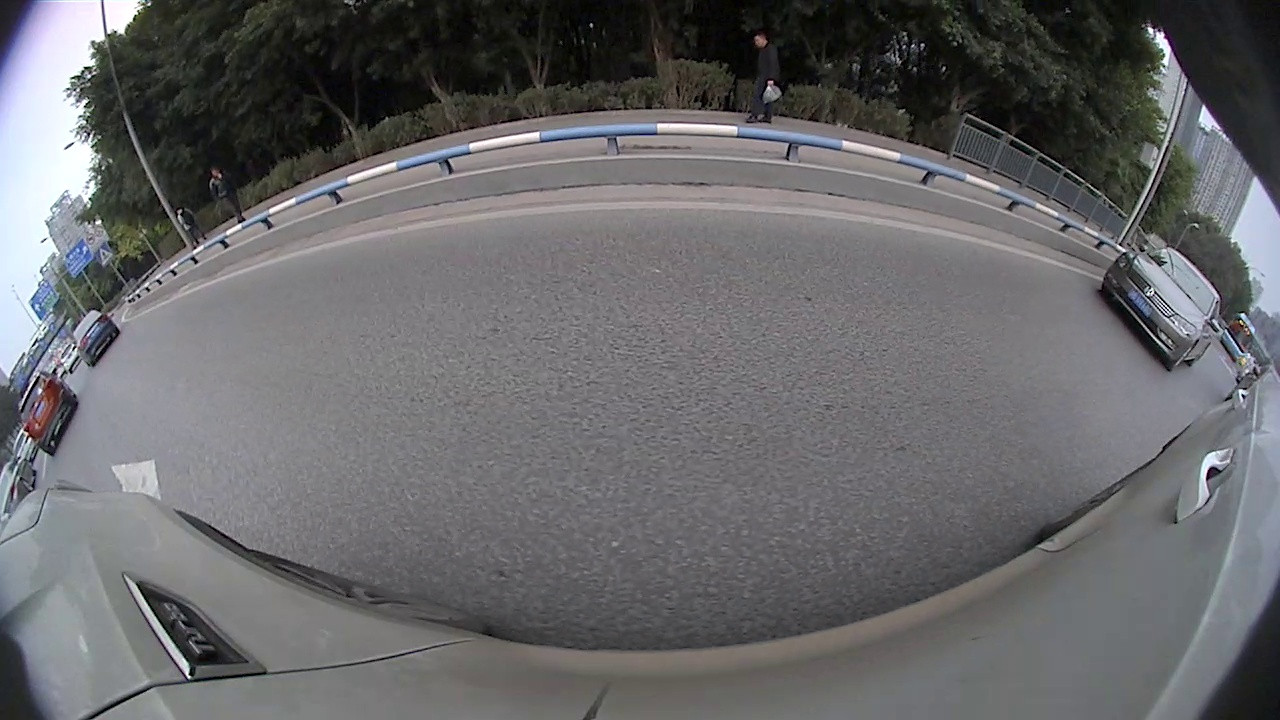bus: (1221, 313, 1256, 361)
car: (1099, 244, 1222, 374), (16, 368, 79, 457), (68, 308, 120, 367), (0, 457, 38, 522), (1223, 360, 1279, 400), (10, 427, 41, 463), (58, 342, 81, 367)
front: (1165, 337, 1197, 371), (1093, 277, 1116, 300)
person: (754, 30, 775, 126), (212, 165, 233, 226), (178, 203, 193, 250)
rear: (1190, 342, 1214, 366)
